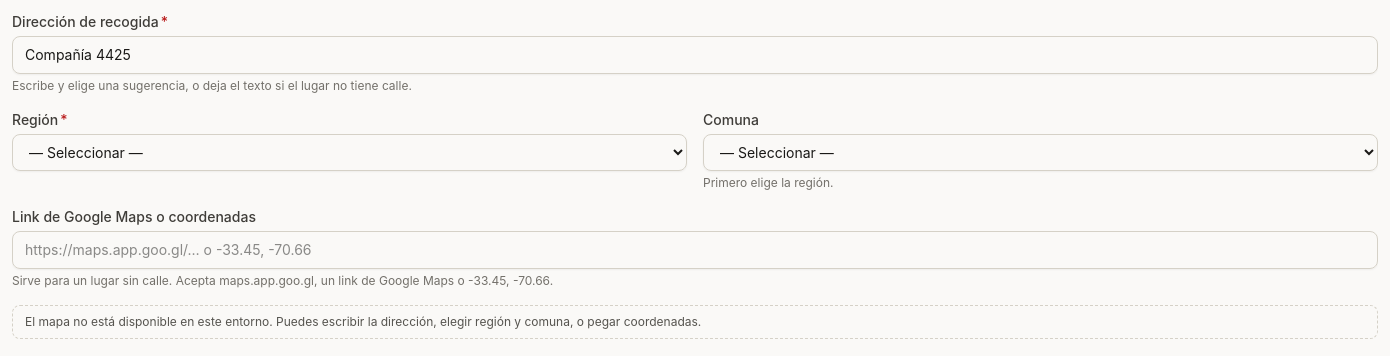
Scenario: SelectorLugar › si el link no trae punto, lo dice y no borra el texto libre
The image size is (1390, 356).
Type "https://maps.app.goo.gl/sinPunto" into the field labelled "Link de Google Maps o coordenadas" at (695, 250), box top-left (12, 231), bottom-right (1378, 269)
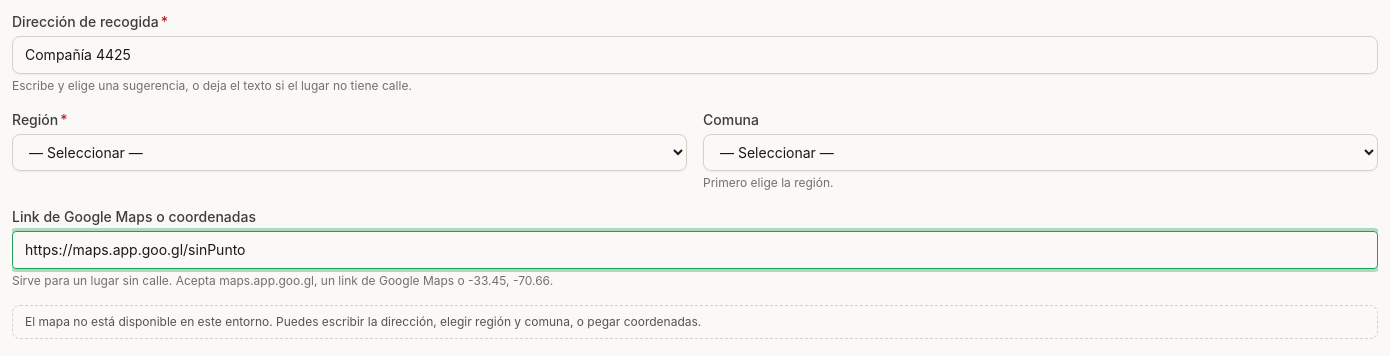
Press Tab
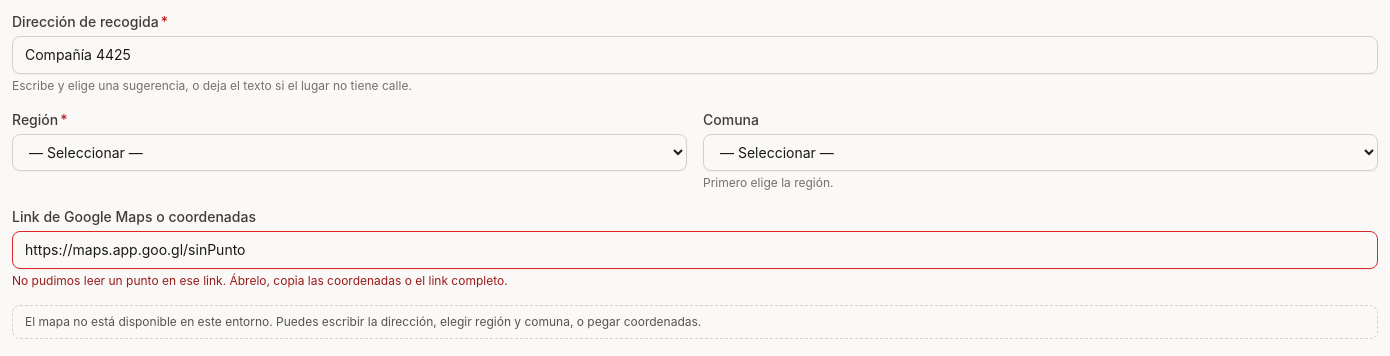
Now the text "No pudimos leer un punto" is shown, box top-left (12, 273), bottom-right (508, 288)
